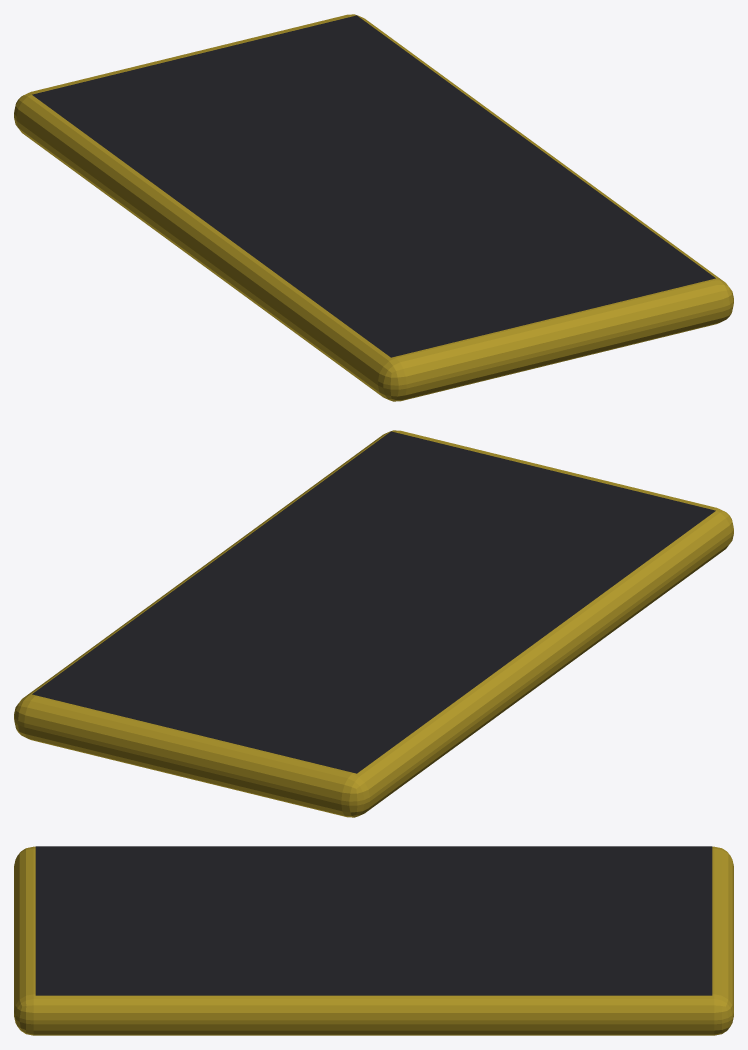
File: Phone_539.glb
The picture shows the model from 3 angles, top to bottom: view 1: azimuth 30°, elevation 25°; view 2: azimuth 150°, elevation 25°; view 3: azimuth 270°, elevation 25°; orthographic projection. The views are drawn at different scales.
Visible parts, largest first — view 1: Phone_Screen, Phone_Body; view 2: Phone_Screen, Phone_Body; view 3: Phone_Screen, Phone_Body.
Part boxes in pixels (x1,y1,x2,y2): Phone_Screen: (32, 15, 715, 357); Phone_Body: (14, 14, 733, 401); Phone_Screen: (32, 431, 715, 773); Phone_Body: (14, 430, 733, 817); Phone_Screen: (35, 846, 712, 995); Phone_Body: (14, 846, 733, 1035).
Bounding box in the file's own units: 0.0784 × 0.009 × 0.1469.
